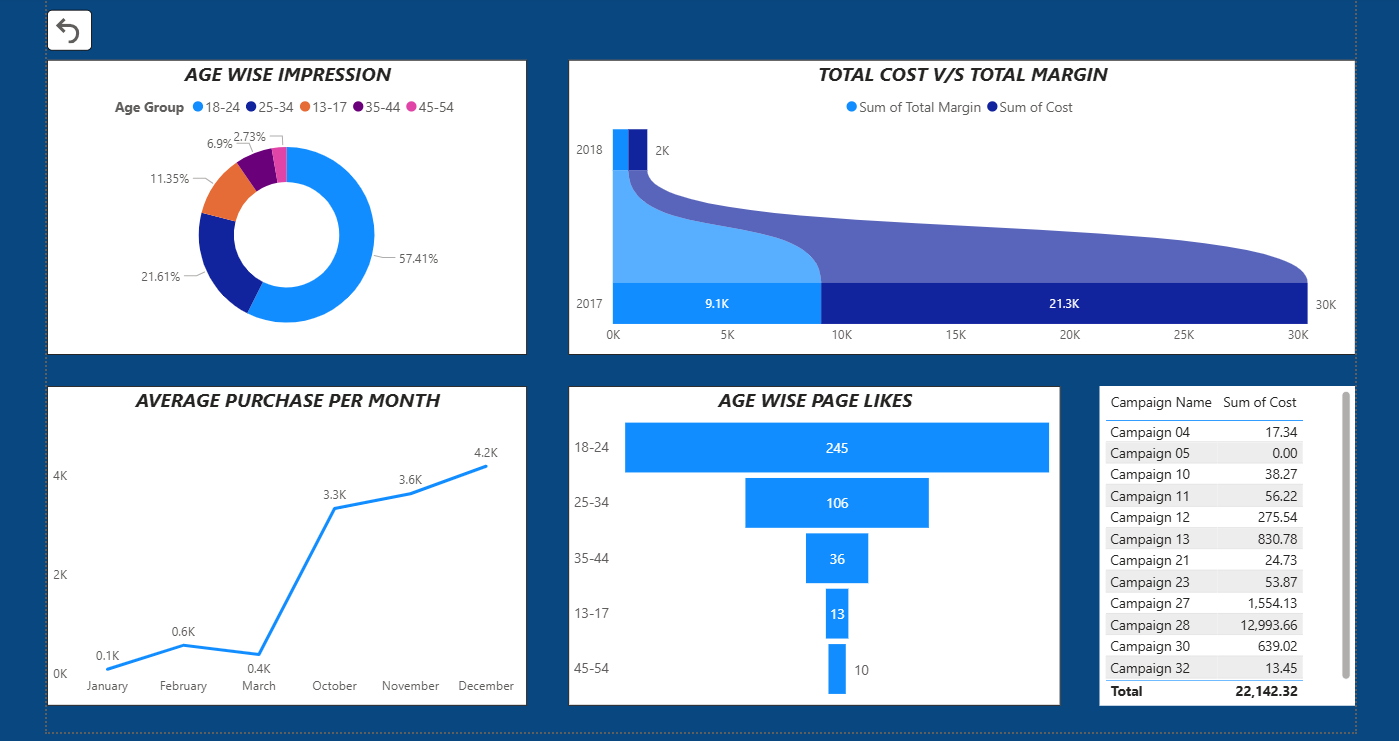

This screenshot's page, from the dashboard's own definition file:
{"tool":"powerbi","page":{"name":"VISUALS","canvas":[1280,720],"ordinal":2},"visuals":[{"type":"donutChart","title":"AGE WISE IMPRESSION","fields":{"Category":["Facebook.Age Group"],"Y":["Sum(Facebook.Impressions)"]},"box":[0,62.4,469.6,288.6],"z":0},{"type":"lineChart","title":"AVERAGE PURCHASE PER MONTH","fields":{"Y":["Sum(Facebook.Avg Purchase Value)"],"Category":["Facebook.ReportDate.Variation.Date Hierarchy.Month"]},"box":[0,381.5,469.6,313],"z":1000},{"type":"funnel","title":"AGE WISE PAGE LIKES","fields":{"Y":["Sum(Facebook.Page Likes)"],"Category":["Facebook.Age Group"]},"box":[509.9,381.5,481.8,313],"z":2000},{"type":"barChart","title":"TOTAL COST V/S TOTAL MARGIN","fields":{"Y":["Sum(Facebook.Total Margin)","Sum(Facebook.Cost)"],"Category":["Facebook.ReportDate.Variation.Date Hierarchy.Year"]},"box":[509.9,62.4,770.4,288.6],"z":3000},{"type":"tableEx","fields":{"Values":["Facebook.Campaign Name","Sum(Facebook.Cost)"]},"box":[1029.6,381.5,250.7,313],"z":4000},{"type":"actionButton","box":[0,13.5,44,40.4],"z":5000}]}

Visuals, with their boxes in screenshot pixels (x1, y1, x2, y2):
"AGE WISE IMPRESSION" donutChart: pyautogui.locateOnScreen(44, 60, 519, 352)
"AVERAGE PURCHASE PER MONTH" lineChart: pyautogui.locateOnScreen(44, 383, 519, 700)
"AGE WISE PAGE LIKES" funnel: pyautogui.locateOnScreen(560, 383, 1048, 700)
"TOTAL COST V/S TOTAL MARGIN" barChart: pyautogui.locateOnScreen(560, 60, 1341, 352)
tableEx - Facebook.Campaign Name x Sum(Facebook.Cost): pyautogui.locateOnScreen(1087, 383, 1341, 700)
actionButton: pyautogui.locateOnScreen(44, 10, 88, 51)
